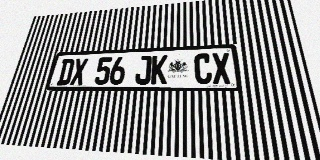5: (94, 57, 112, 85)
6: (109, 57, 127, 85)
C: (194, 53, 212, 84)
D: (56, 59, 75, 85)
J: (134, 56, 152, 85)
K: (151, 55, 168, 85)
X: (211, 52, 232, 84), (70, 58, 88, 85)
